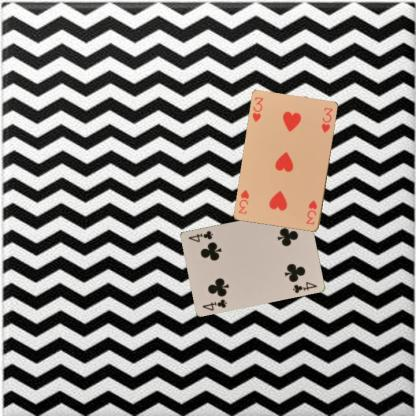3h: (304, 198, 318, 226), (250, 95, 264, 123)
4c: (200, 296, 228, 312)
